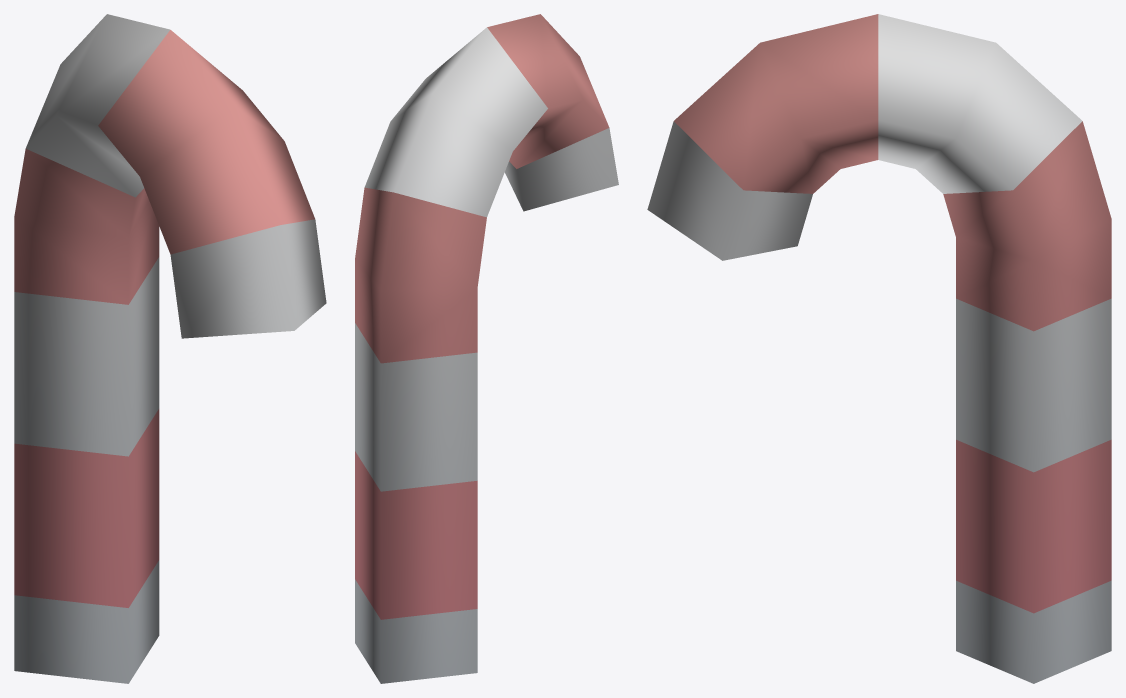
File: candy-cane.glb
The picture shows the model from 3 angles, left to right: view 1: azimuth 30°, elevation 25°; view 2: azimuth 150°, elevation 25°; view 3: azimuth 270°, elevation 25°; orthographic projection. The views are drawn at different scales.
Parts seen in each view (by area): view 1: candy-cane; view 2: candy-cane; view 3: candy-cane.
Part boxes in pixels (box(x1,y1,x2,y2)): candy-cane: box(14, 14, 326, 683); candy-cane: box(355, 14, 618, 683); candy-cane: box(647, 14, 1111, 683).
Size of the model in its own units: 0.05 by 0.2259 by 0.1491.
